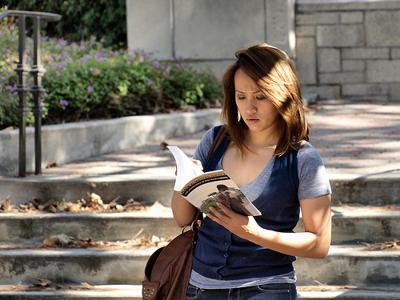person: (171, 43, 332, 300)
